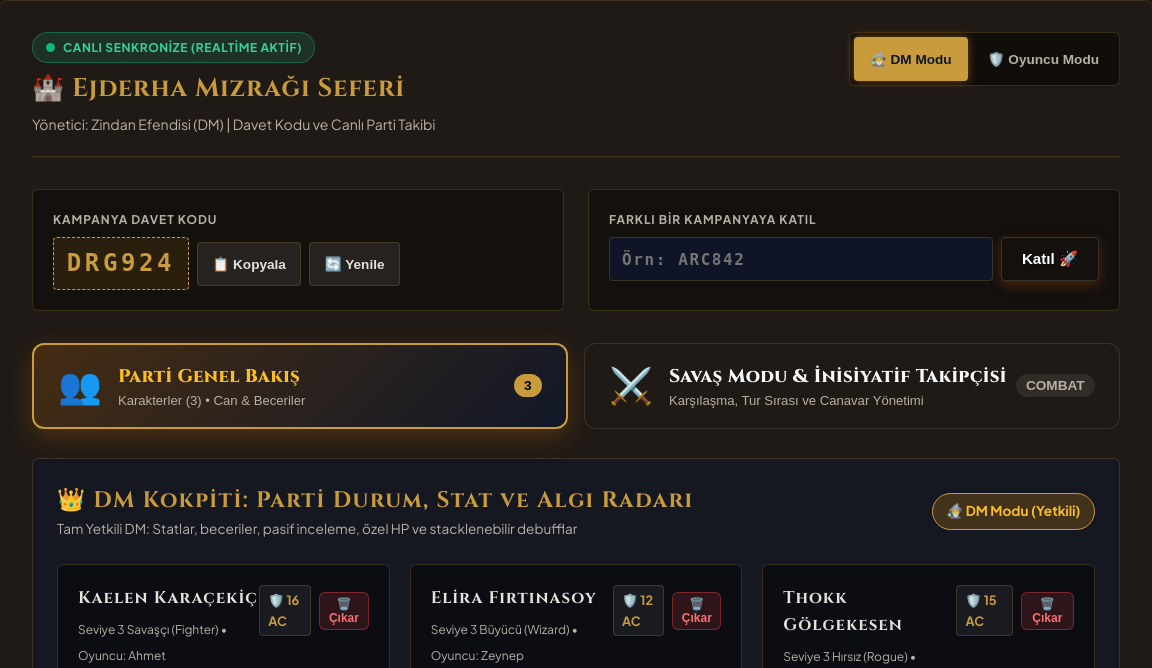
Test case: CampaignView Component › validates join campaign code input
// Invalid code (too short)
Type "AB" into the field named "Katılma Davet Kodu" at (801, 259), box [609, 237, 993, 281]
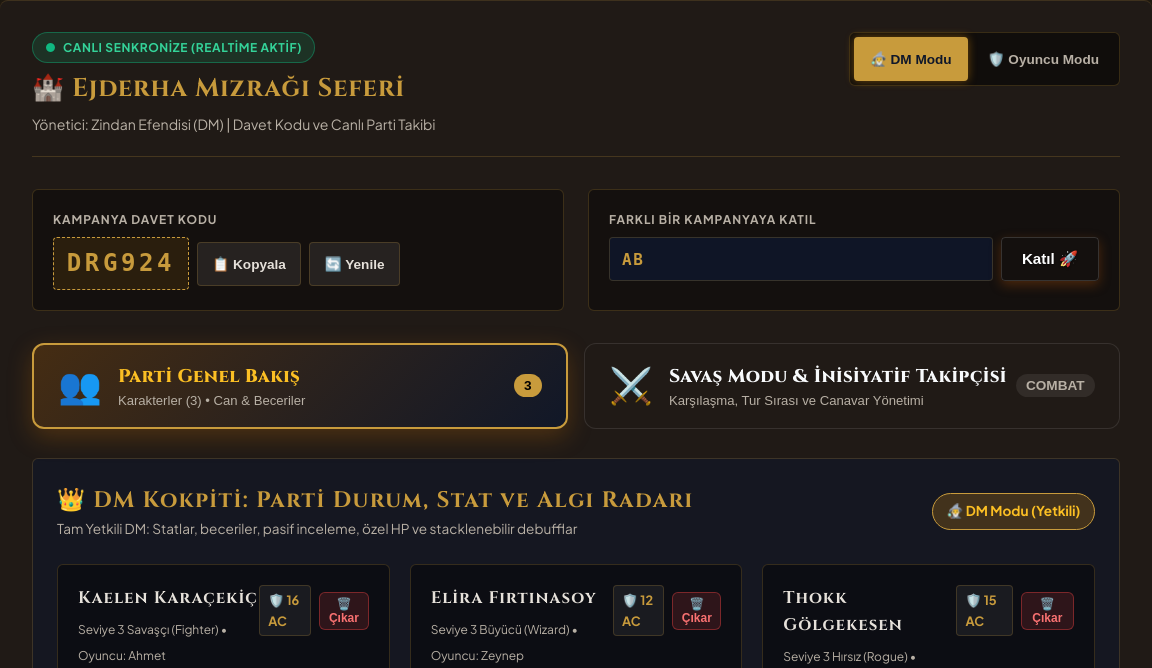
Click the button with aria-label "Kampanyaya Katıl" at (1050, 259), box [1001, 237, 1099, 281]
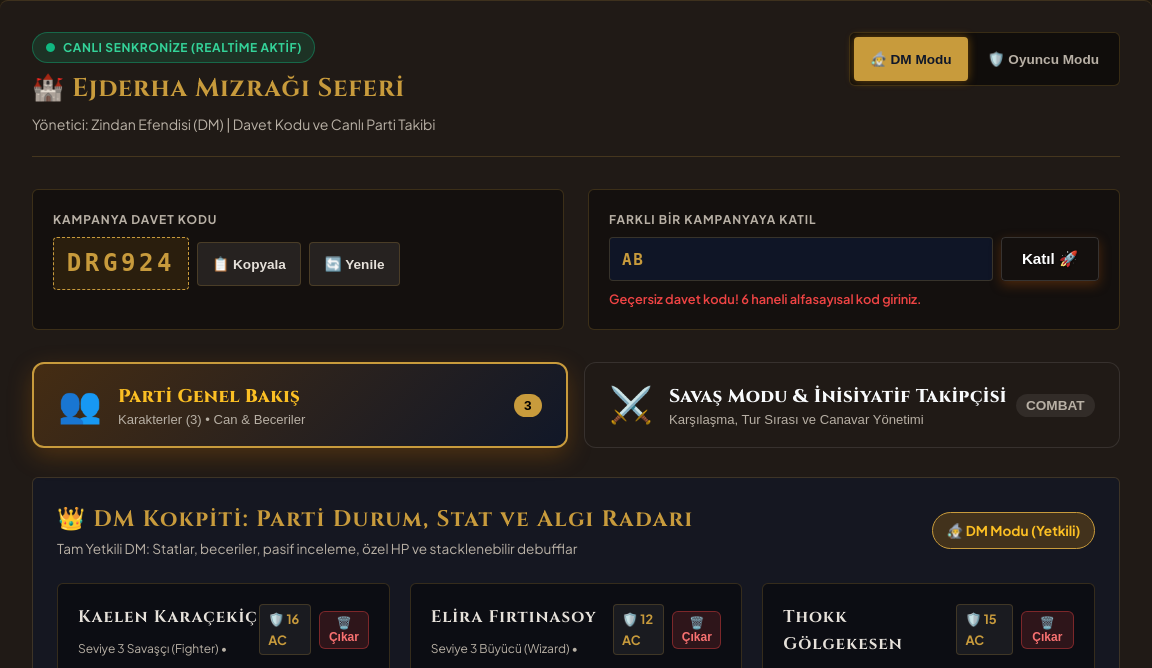
Expected: the text "Geçersiz davet kodu! 6 haneli alfasayısal kod giriniz." is shown, [609, 291, 922, 307]
// Valid code
Replace the text in the field named "Katılma Davet Kodu" with "NEW999" at (801, 259), box [609, 237, 993, 281]
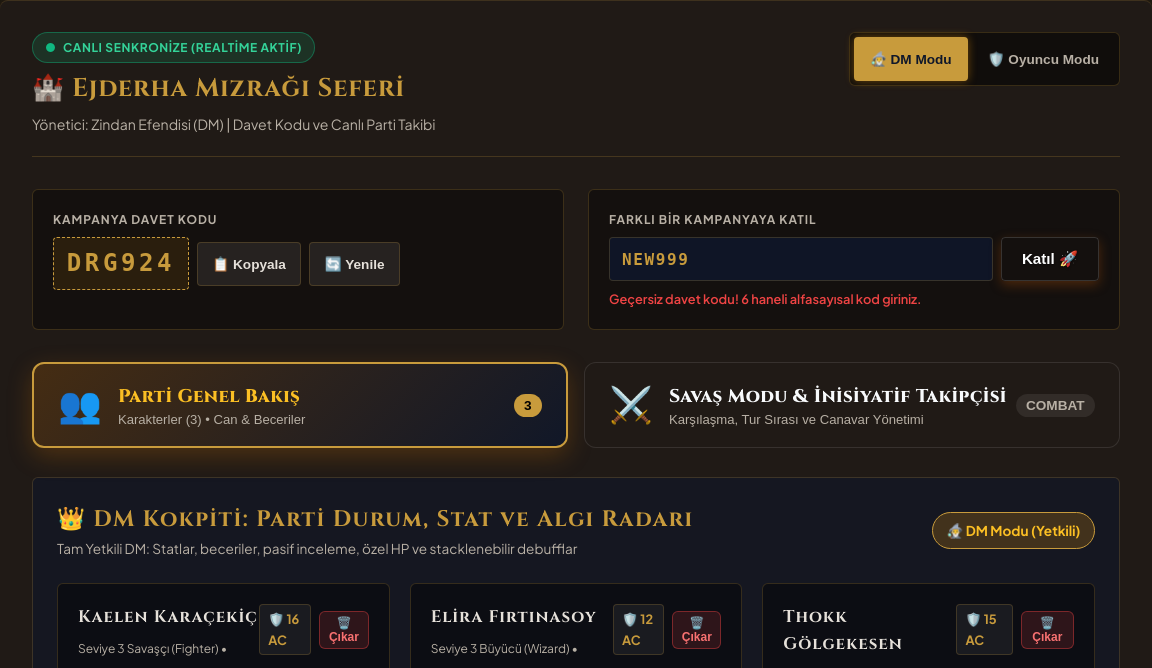
Click the button with aria-label "Kampanyaya Katıl" at (1050, 259), box [1001, 237, 1099, 281]
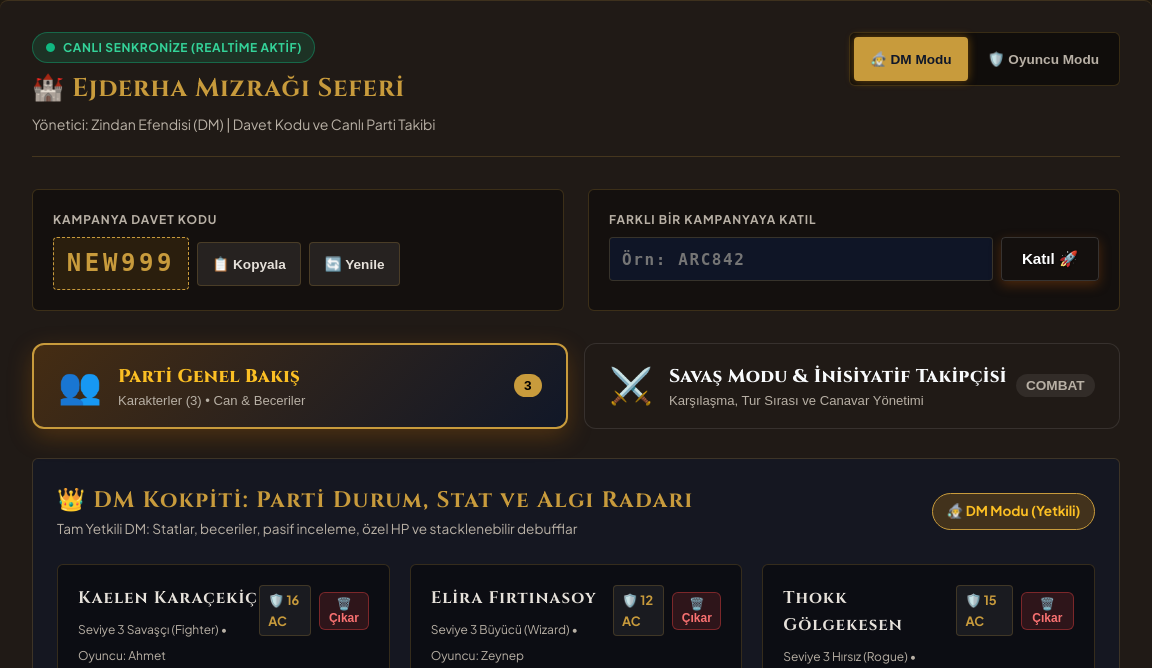
Expected: the text "Geçersiz davet kodu" is gone
Expected: the text "NEW999" is shown, [53, 237, 189, 290]
